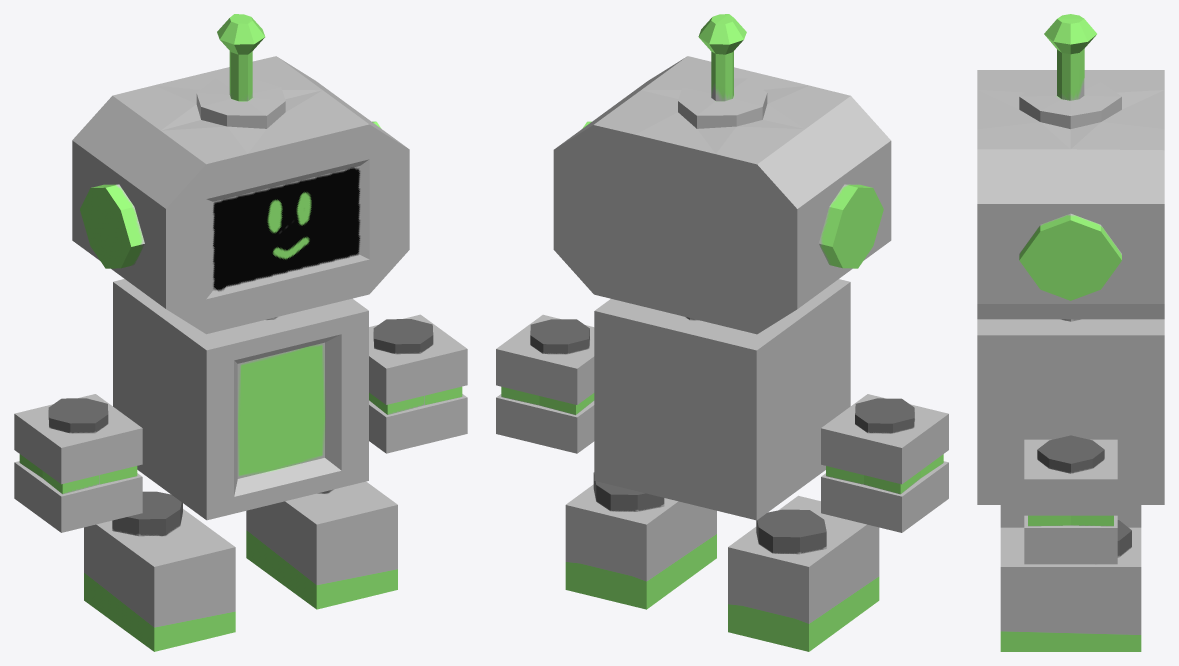
The model's file is PlayerModelMulti.obj.
The picture shows the model from 3 angles, left to right: view 1: azimuth 30°, elevation 25°; view 2: azimuth 150°, elevation 25°; view 3: azimuth 270°, elevation 25°; orthographic projection.
Visible parts, largest first — view 1: P_Head, P_Body, P_Leg_L, P_Leg_R, P_Hand_R, P_Hand_L; view 2: P_Head, P_Body, P_Leg_L, P_Leg_R, P_Hand_R, P_Hand_L; view 3: P_Head, P_Body, P_Leg_R, P_Hand_L, P_Leg_L.
Part boxes in pixels (<box>): P_Head: <box>72,14,409,334</box>; P_Body: <box>113,279,368,520</box>; P_Leg_L: <box>84,491,235,651</box>; P_Leg_R: <box>246,481,397,609</box>; P_Hand_R: <box>14,394,142,532</box>; P_Hand_L: <box>369,314,467,453</box>; P_Head: <box>553,14,891,334</box>; P_Body: <box>594,279,850,520</box>; P_Leg_L: <box>728,495,879,651</box>; P_Leg_R: <box>565,472,716,609</box>; P_Hand_R: <box>821,394,948,532</box>; P_Hand_L: <box>496,314,594,453</box>; P_Head: <box>977,14,1164,319</box>; P_Body: <box>977,319,1164,504</box>; P_Leg_R: <box>1000,520,1141,651</box>; P_Hand_L: <box>1024,435,1117,564</box>; P_Leg_L: <box>1000,505,1141,527</box>.
Size of the model in its own units: 1.63 by 2.21 by 0.6511.
